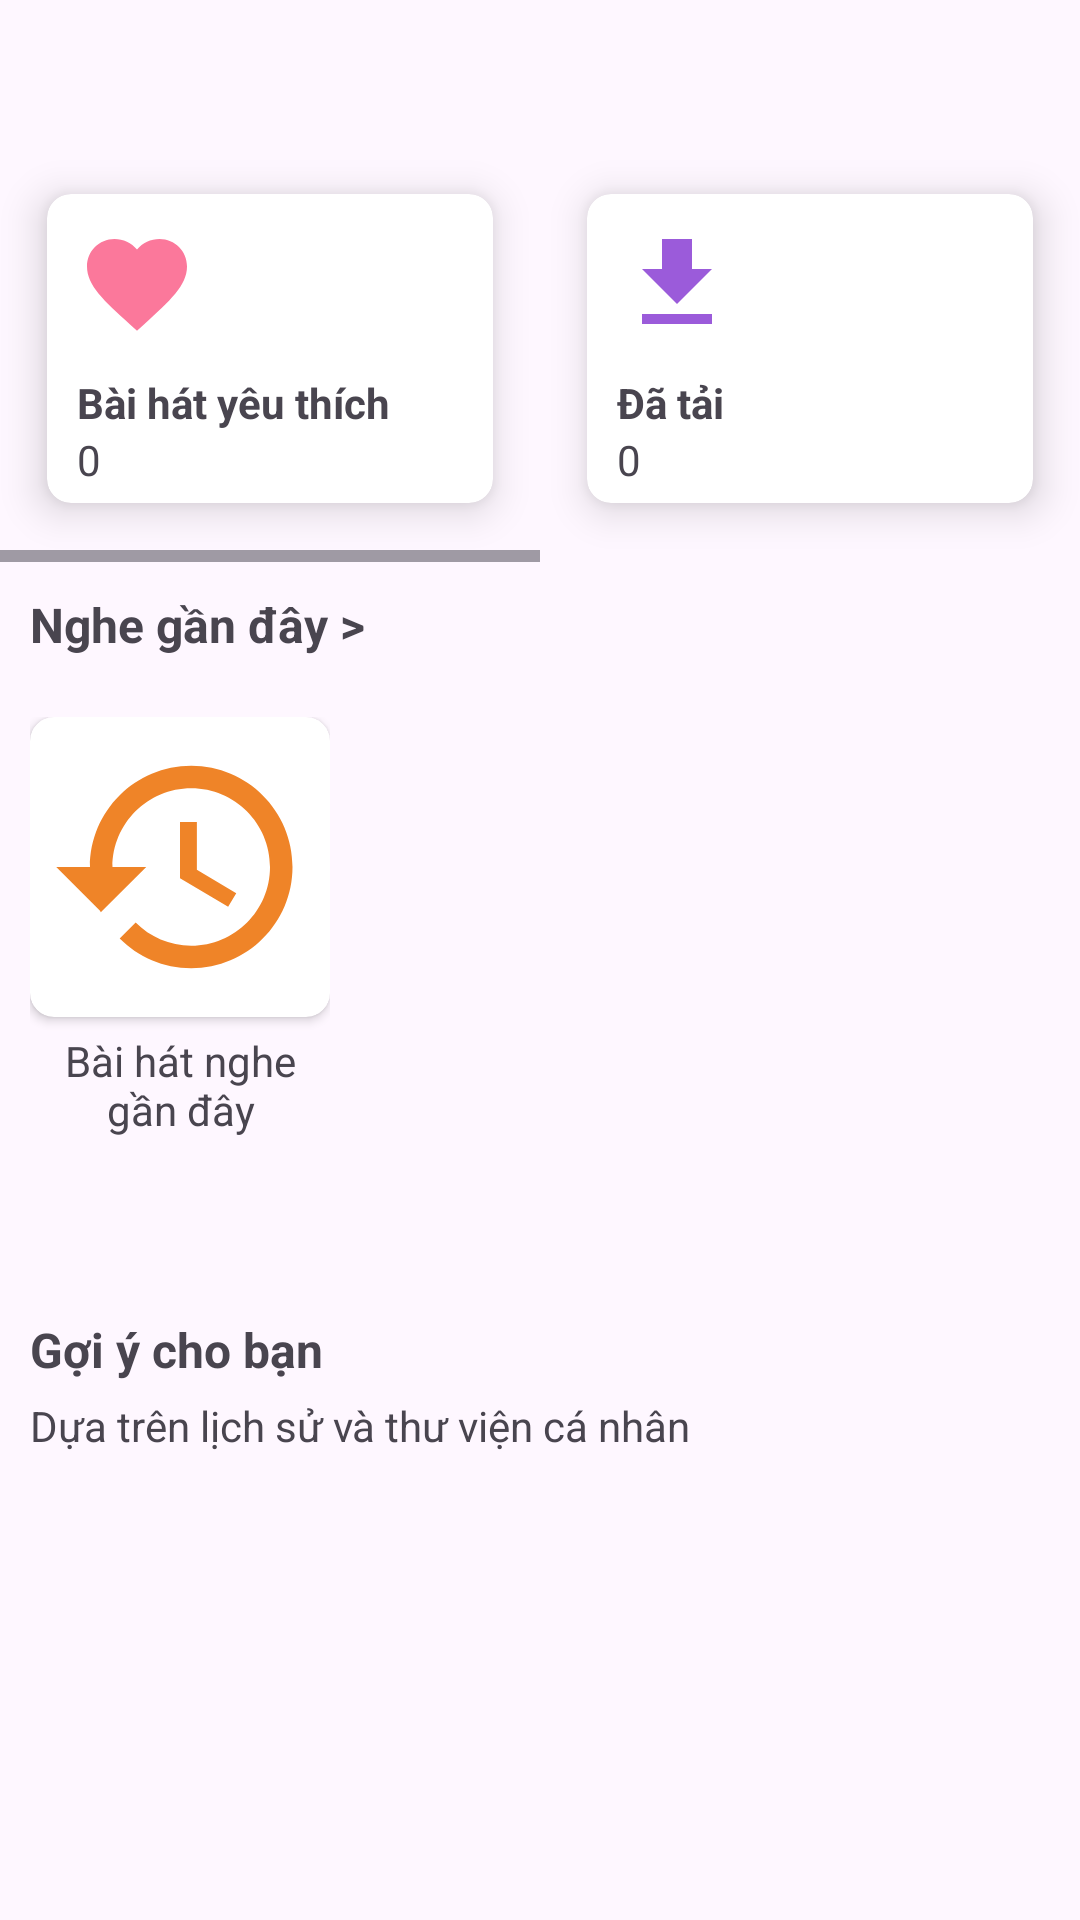

Named icons in this screenshot (1080 × 1920) and their centers, [x,y]:
favorite: [137,285]
file download: [677,281]
